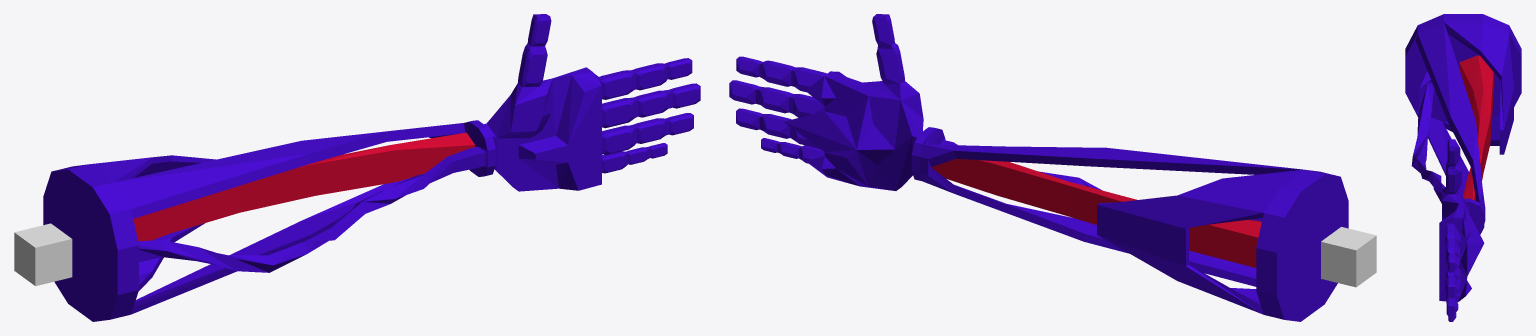
File: leftArm_v2.dae
The picture shows the model from 3 angles, left to right: view 1: azimuth 30°, elevation 25°; view 2: azimuth 150°, elevation 25°; view 3: azimuth 270°, elevation 25°; orthographic projection. The views are drawn at different scales.
Parts seen in each view (by area): view 1: Cube_005, Cube_004; view 2: Cube_005, Cube_004; view 3: Cube_005.
Part boxes in pixels (<box>): Cube_005: <box>43,14,700,321</box>; Cube_004: <box>14,223,72,286</box>; Cube_005: <box>729,14,1348,321</box>; Cube_004: <box>1321,227,1376,287</box>; Cube_005: <box>1405,14,1521,321</box>.
Size of the model in its own units: 4.35 by 0.84 by 1.21.
